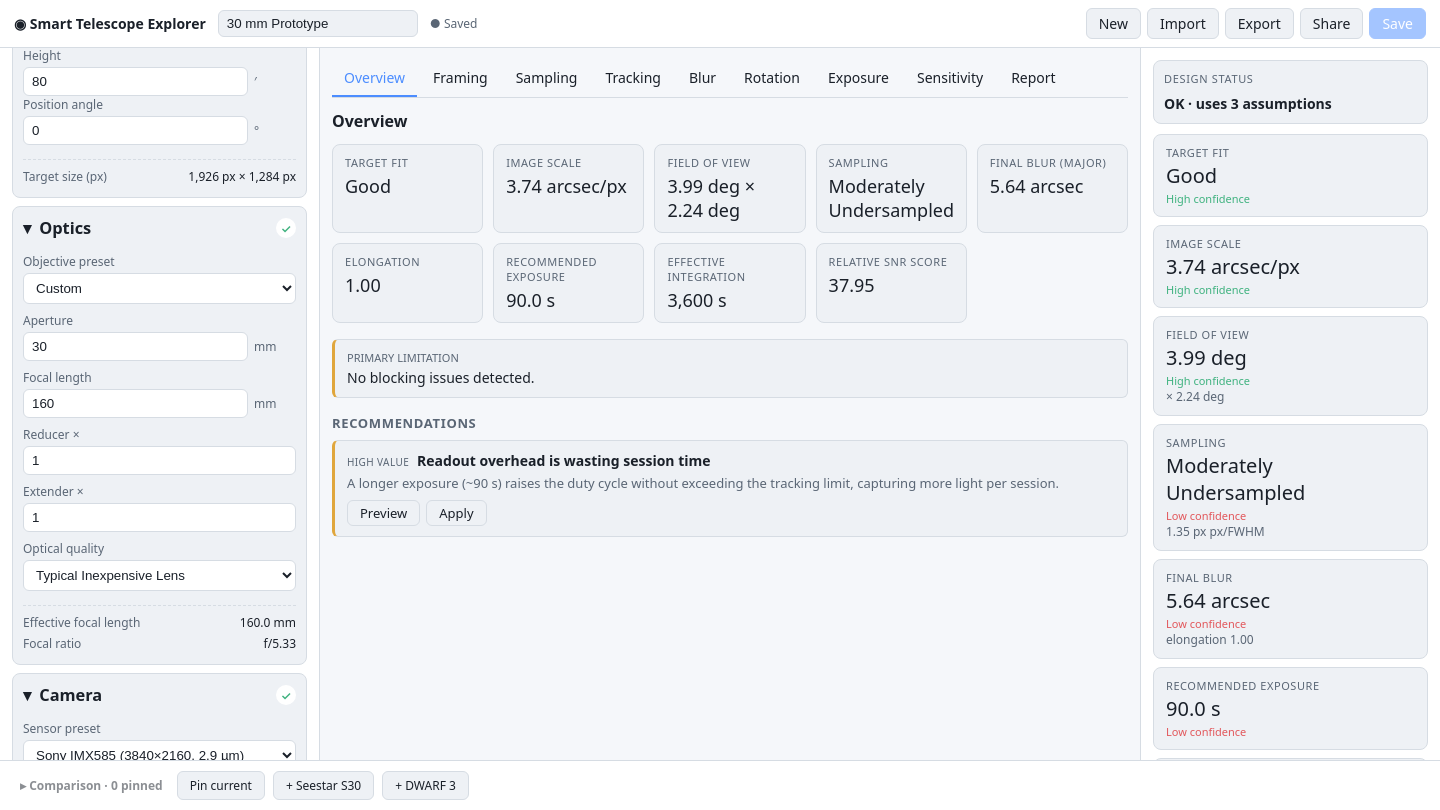
Scenario: #4: recommendation preview (v0.8 §28) › previews a recommendation showing a before→after benefit
(page scrolled)
// Force a framing failure so a recommendation with proposed changes appears.
Step 1. Replace the text in the number field labelled "Focal length mm" with "2000" → (136, 404), box [23,389,248,418]
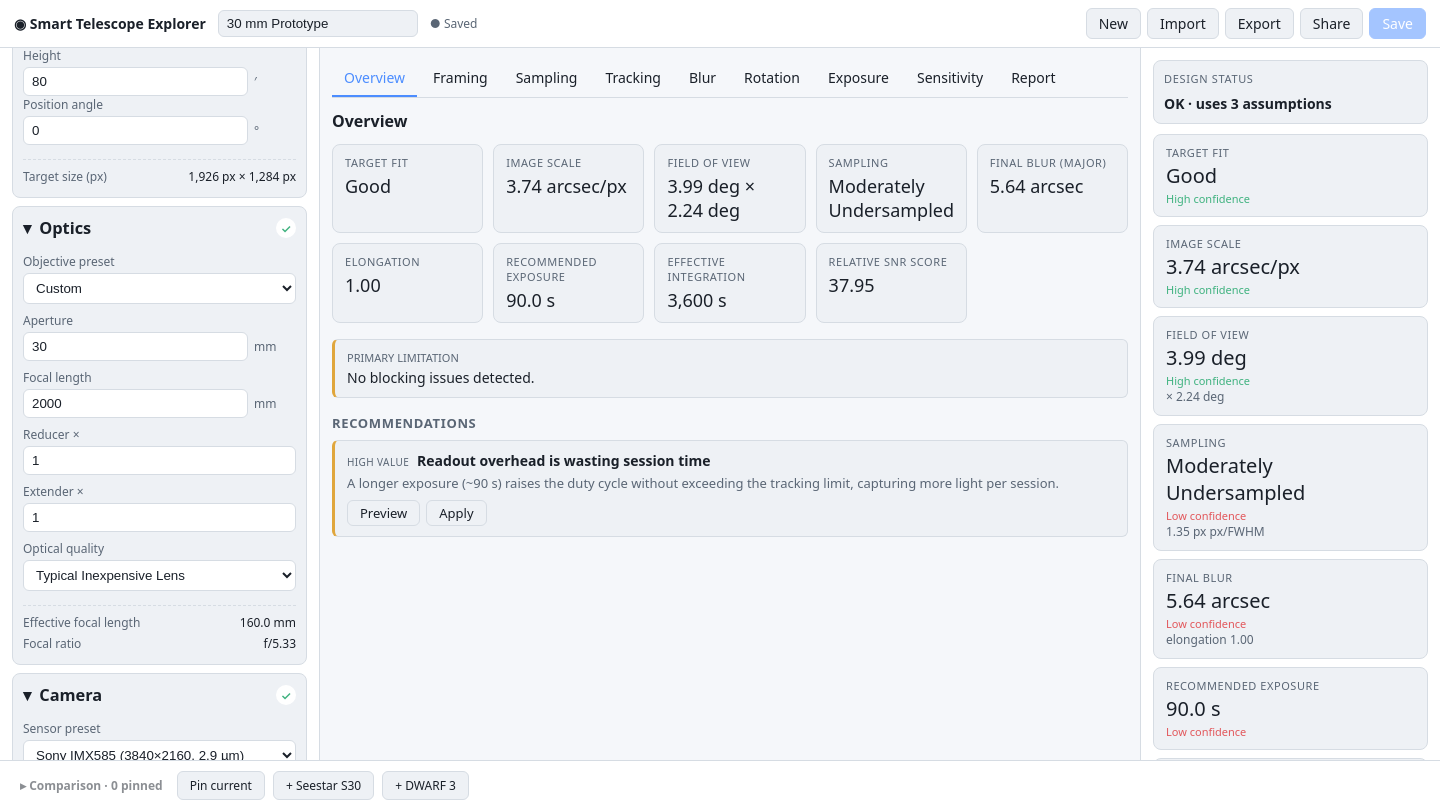
Step 2. Leave the number field labelled "Focal length mm", box [23,389,248,418]
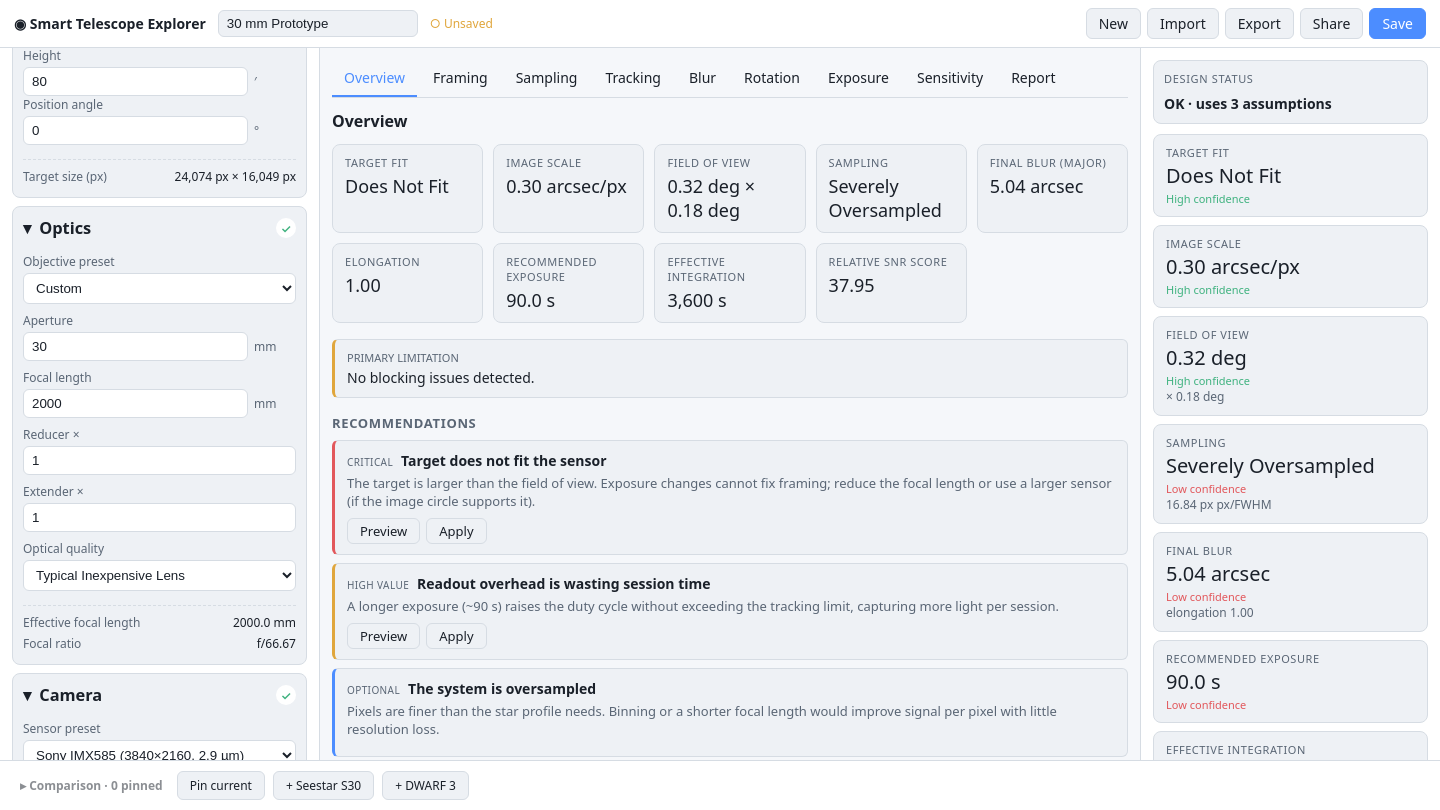
Expected: the button "Preview" below "Critical" is shown
Step 3. Click the button "Preview" below "Critical" → click(384, 531), box [347,518,420,544]
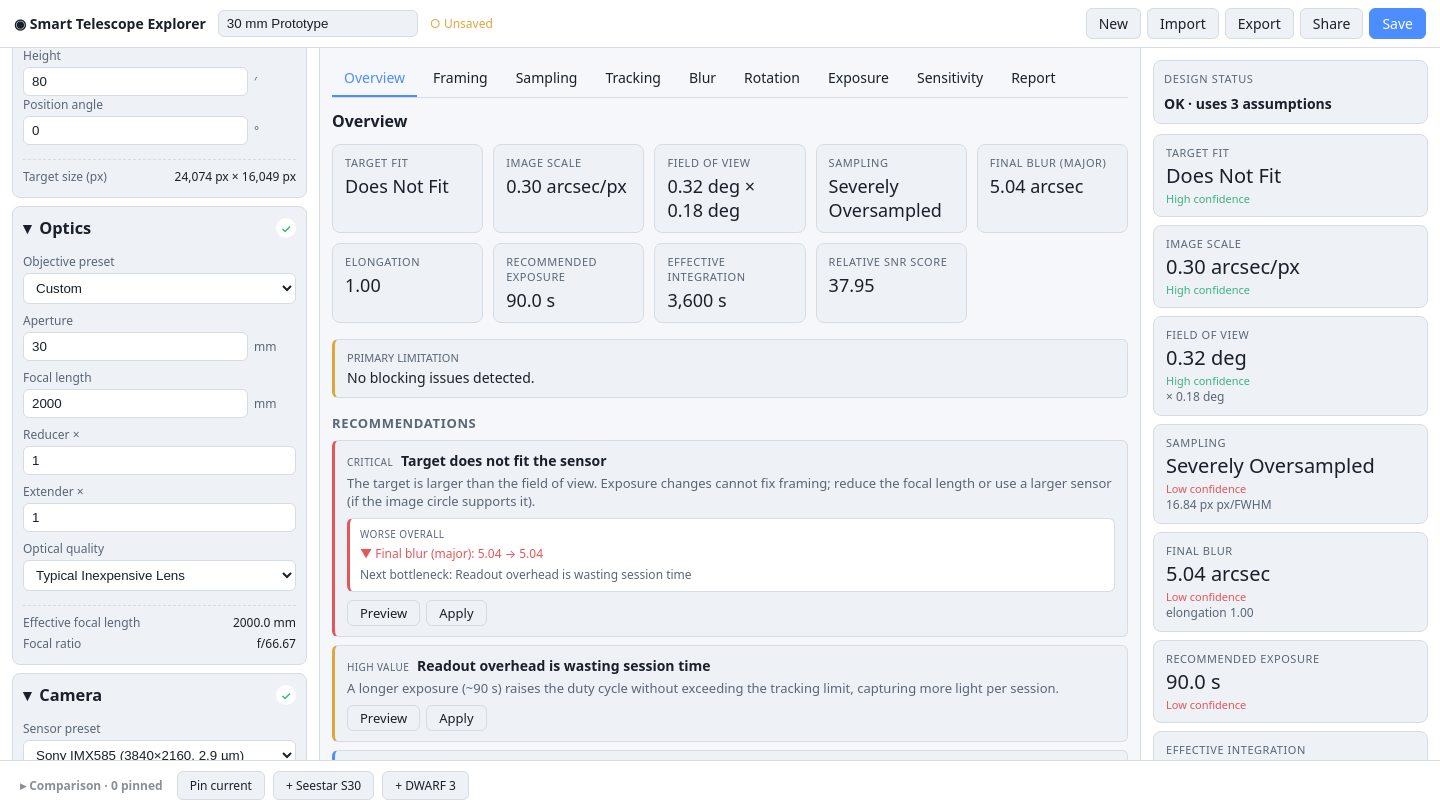
Expected: the text "▼ Final blur (major): 5.04 → 5.04" is shown, [360,545,543,562]
